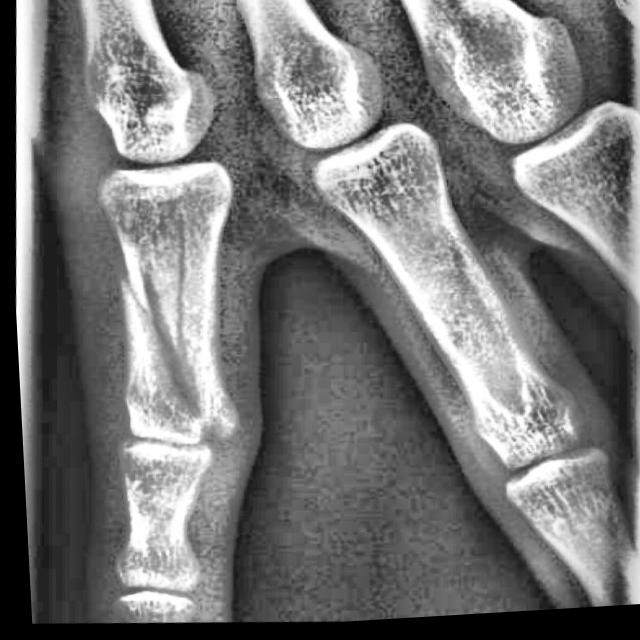fracture: (92, 227, 238, 452)
